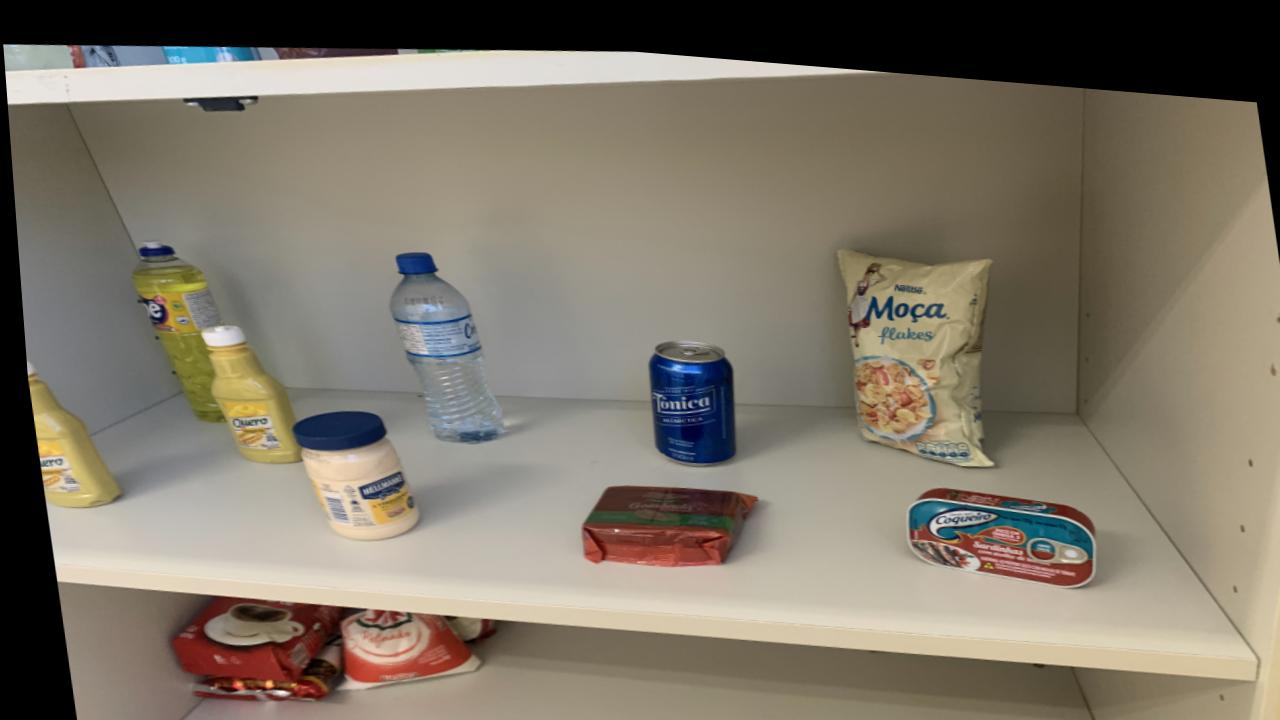Cleaner-Cleanup_Items: (161, 42, 259, 60)
Detergent-Cleanup_Items: (127, 239, 218, 419)
Flakes-Snacks: (834, 234, 987, 450)
Guava-Snacks: (574, 474, 749, 555)
Mayonnaise-Pantry_Items: (286, 405, 411, 534)
Mustard-Pantry_Items: (194, 321, 294, 458), (21, 360, 113, 506)
Soda-Drinks: (3, 44, 71, 70)
Tonic-Drinks: (642, 329, 730, 454)
Tuna_Can-Pantry_Items: (899, 473, 1090, 570)
Water_Bottle-Drinks: (384, 244, 497, 434)
